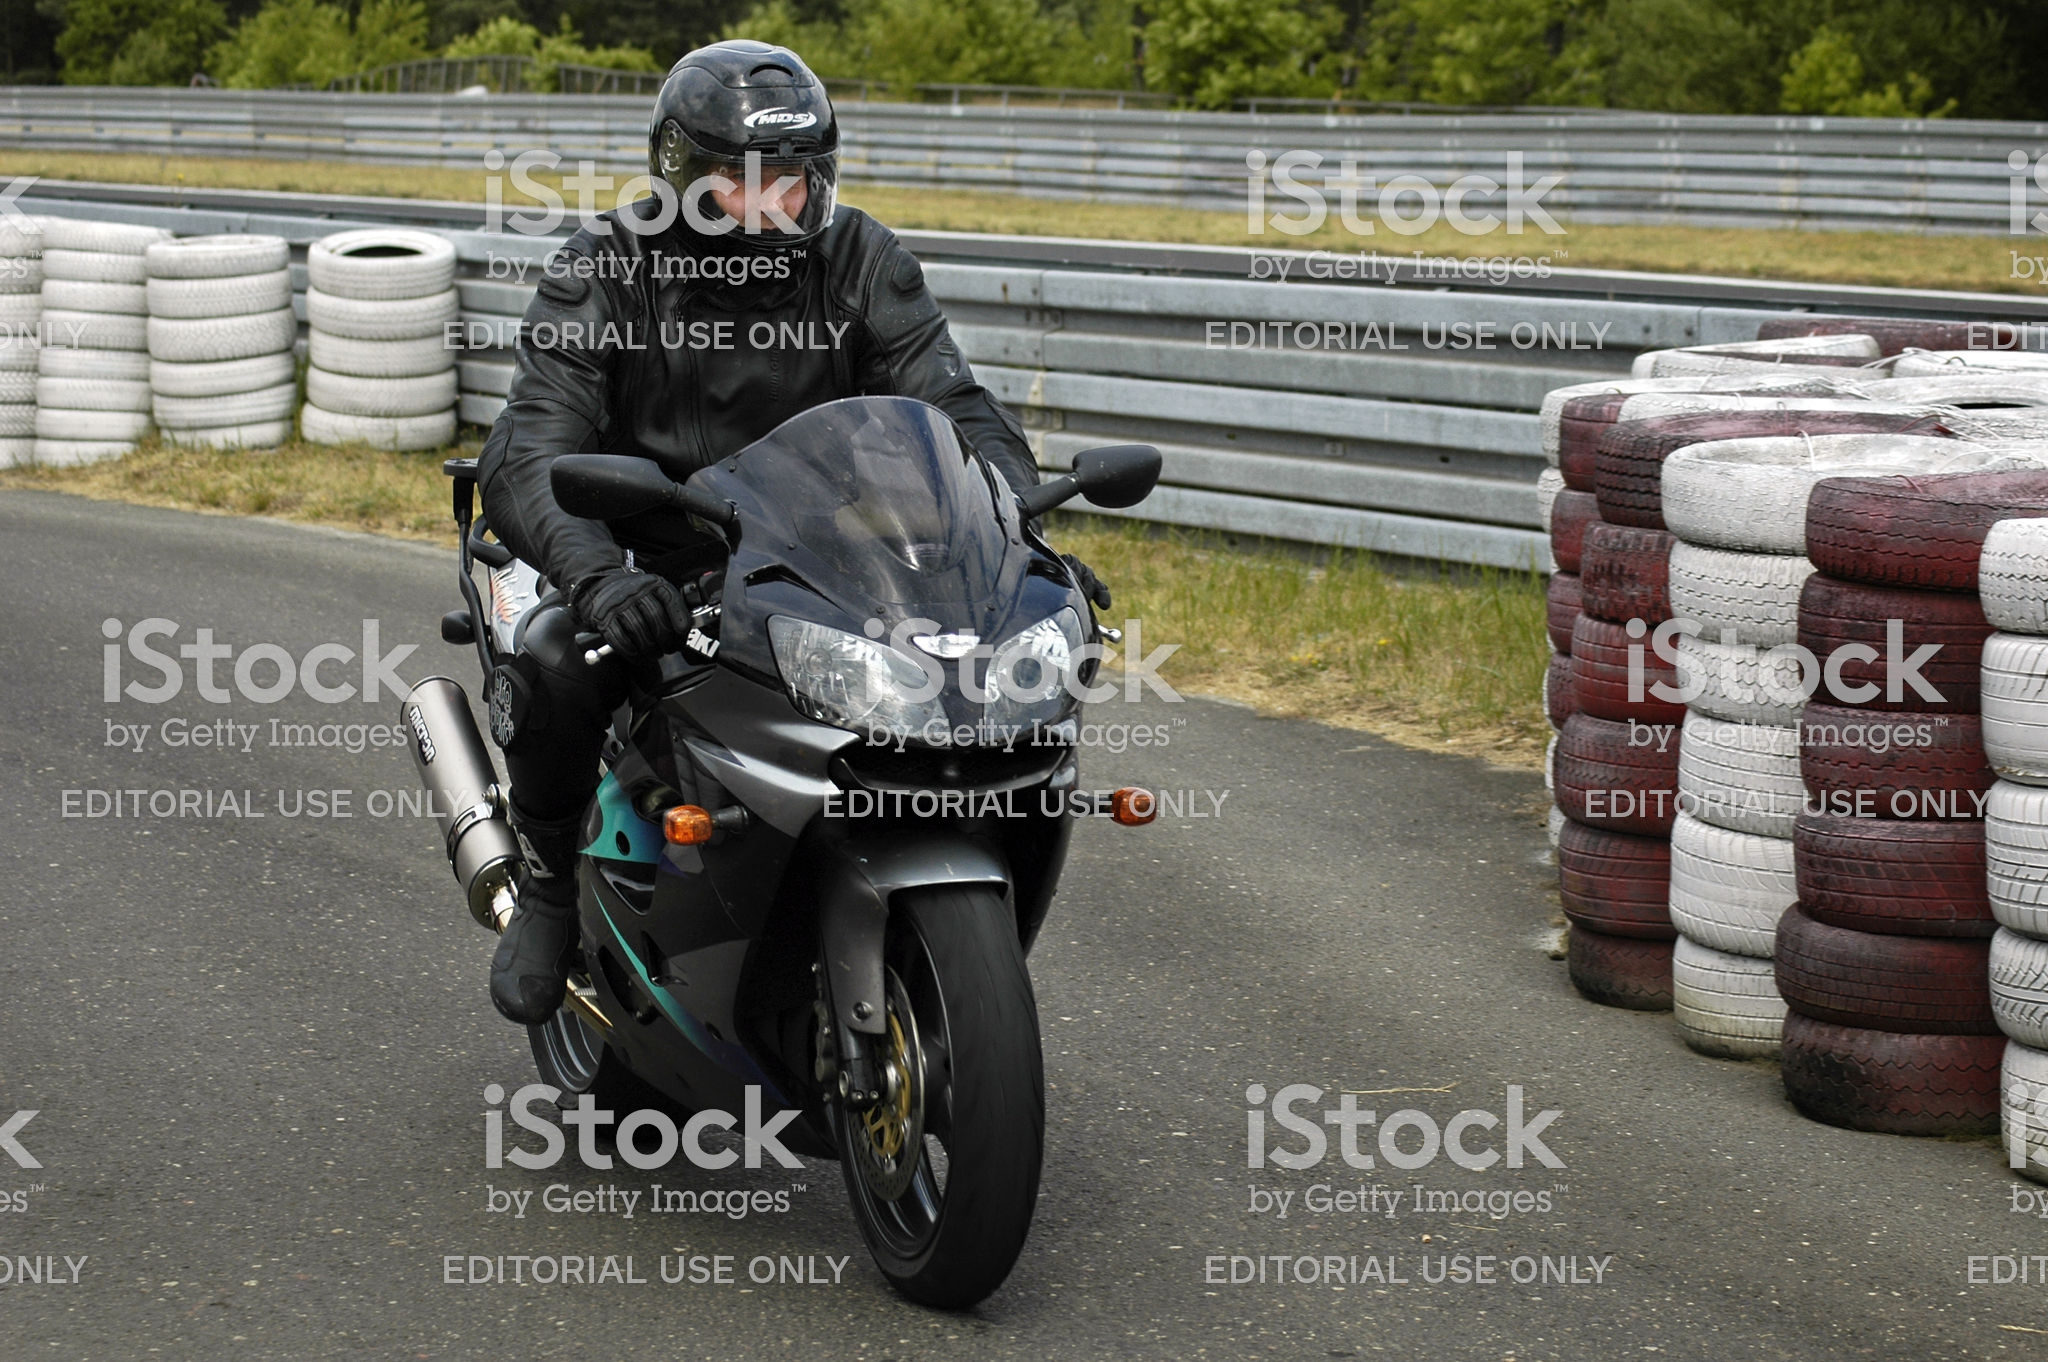helmet: (618, 21, 858, 275)
